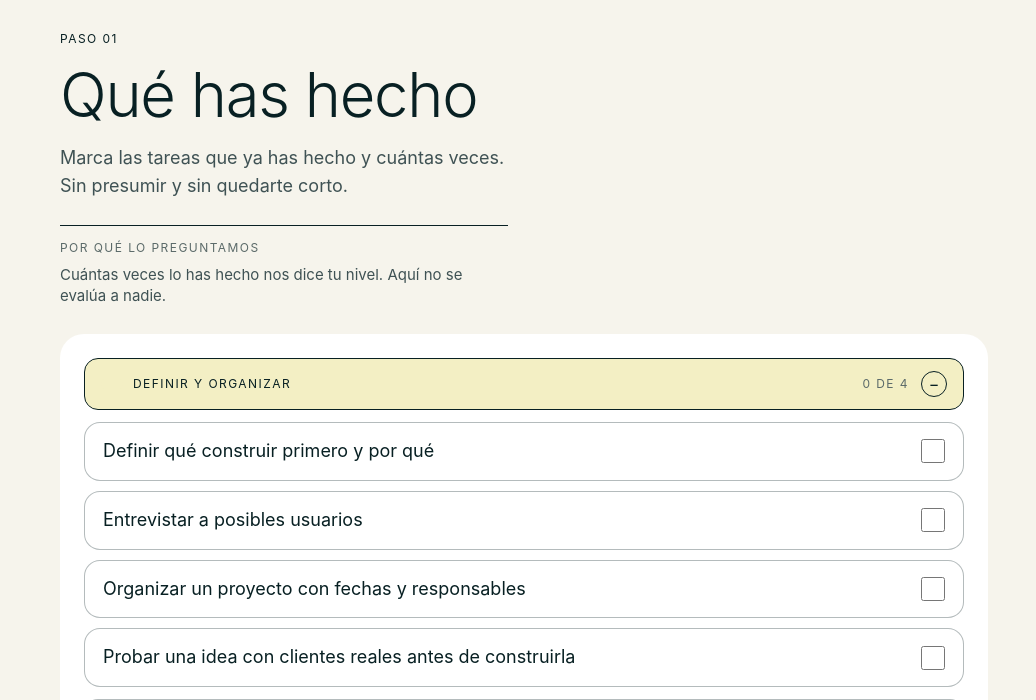
Test: TareasView: guardar › mientras el servidor responde, el botón dice que está guardando
Step 1. Click the checkbox labelled "Definir qué construir primero y por qué" → x=933, y=452, box left=921, top=440, right=945, bottom=464
(page scrolled)
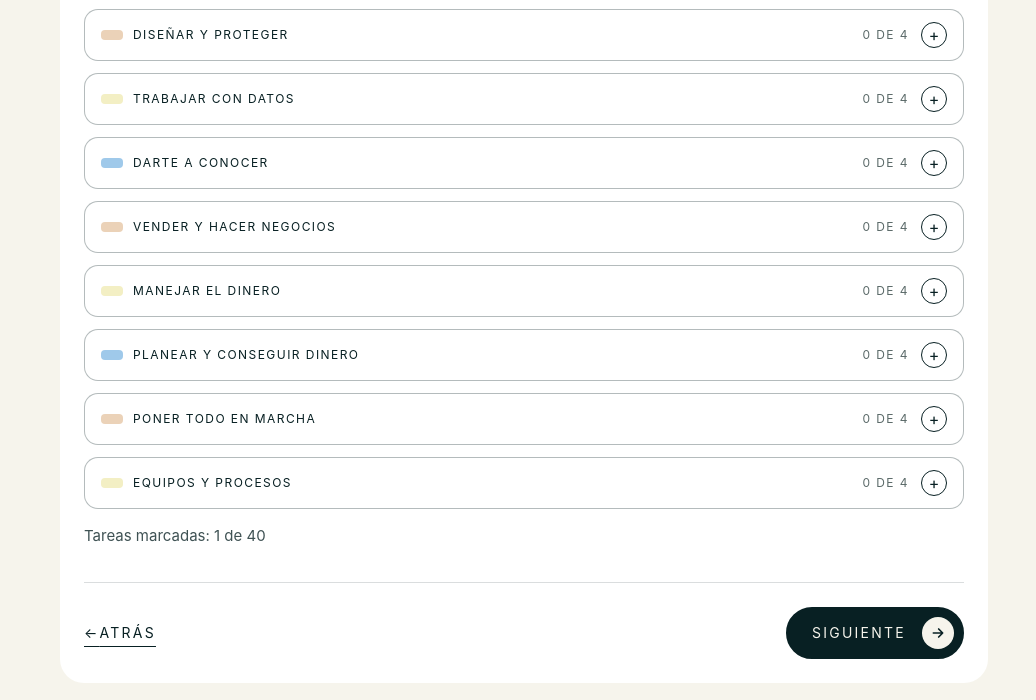
Step 2. Click the button "Siguiente" → x=875, y=633, box left=786, top=607, right=964, bottom=659
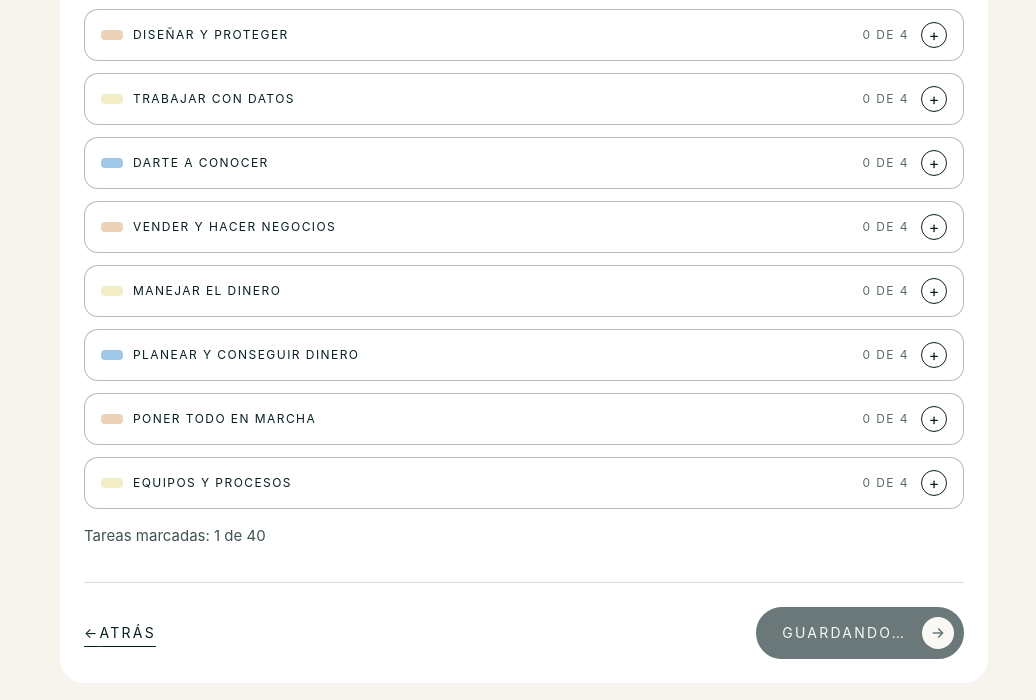
Result: the button "Guardando…" is disabled at left=756, top=607, right=964, bottom=659
